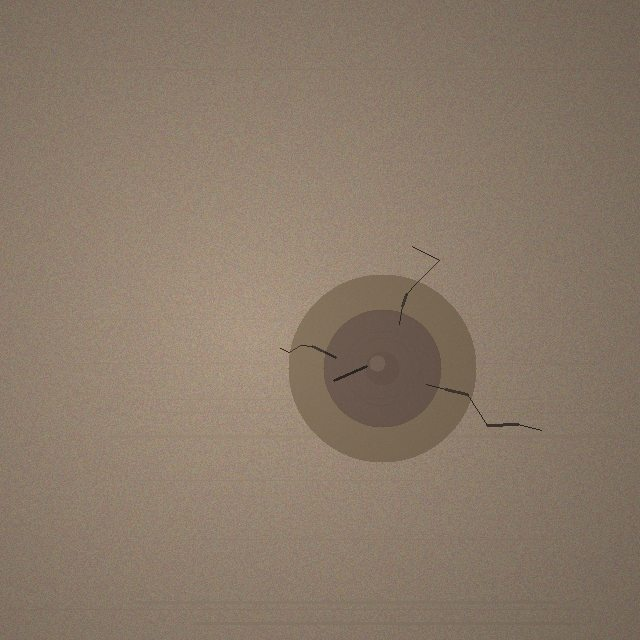crack: (288, 274, 476, 462)
